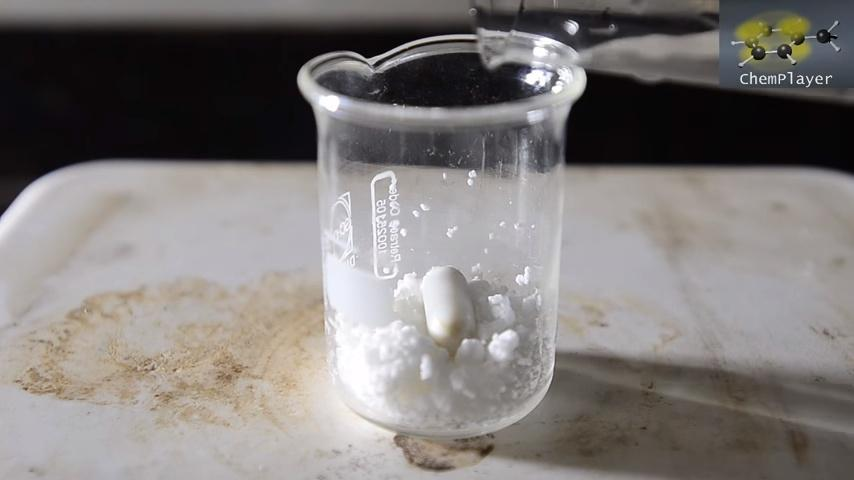Beaker: (301, 30, 613, 445)
